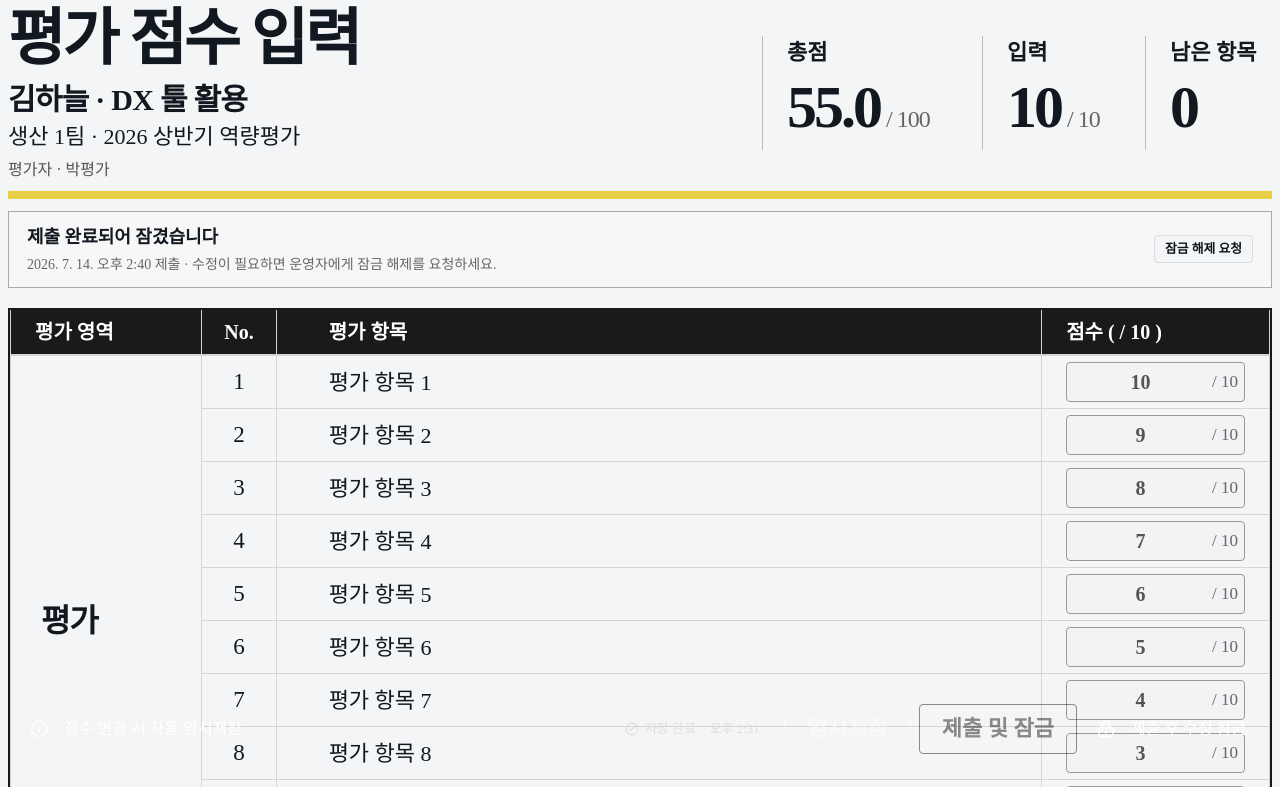
EvaluationScoreForm › 평가자가 제출 후 수정 사유를 적어 잠금 해제를 요청한다
Step 1. Click the button "잠금 해제 요청" → (1204, 249), box [1154,235,1253,263]
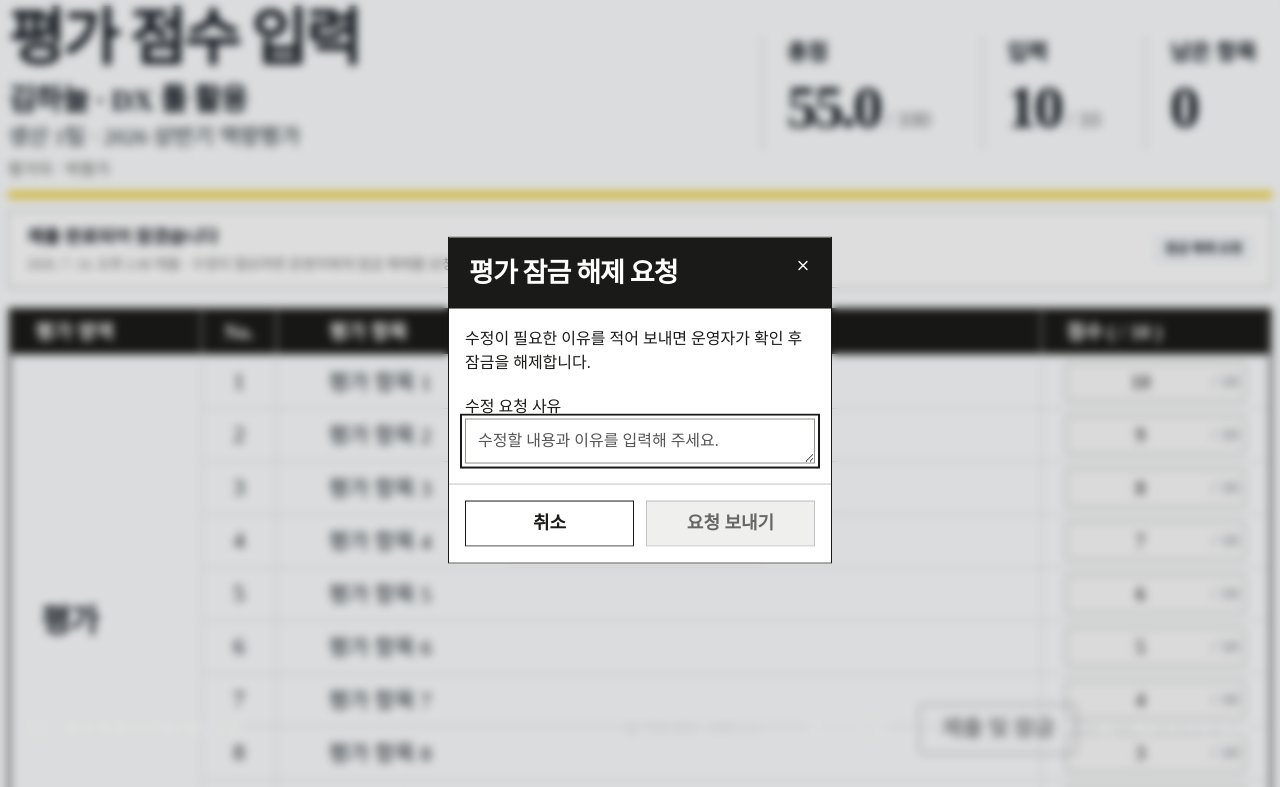
Step 2. Type "평가 항목 3 점수 오입력" into the text box labelled "수정 요청 사유" → (640, 441), box [465,419,815,463]
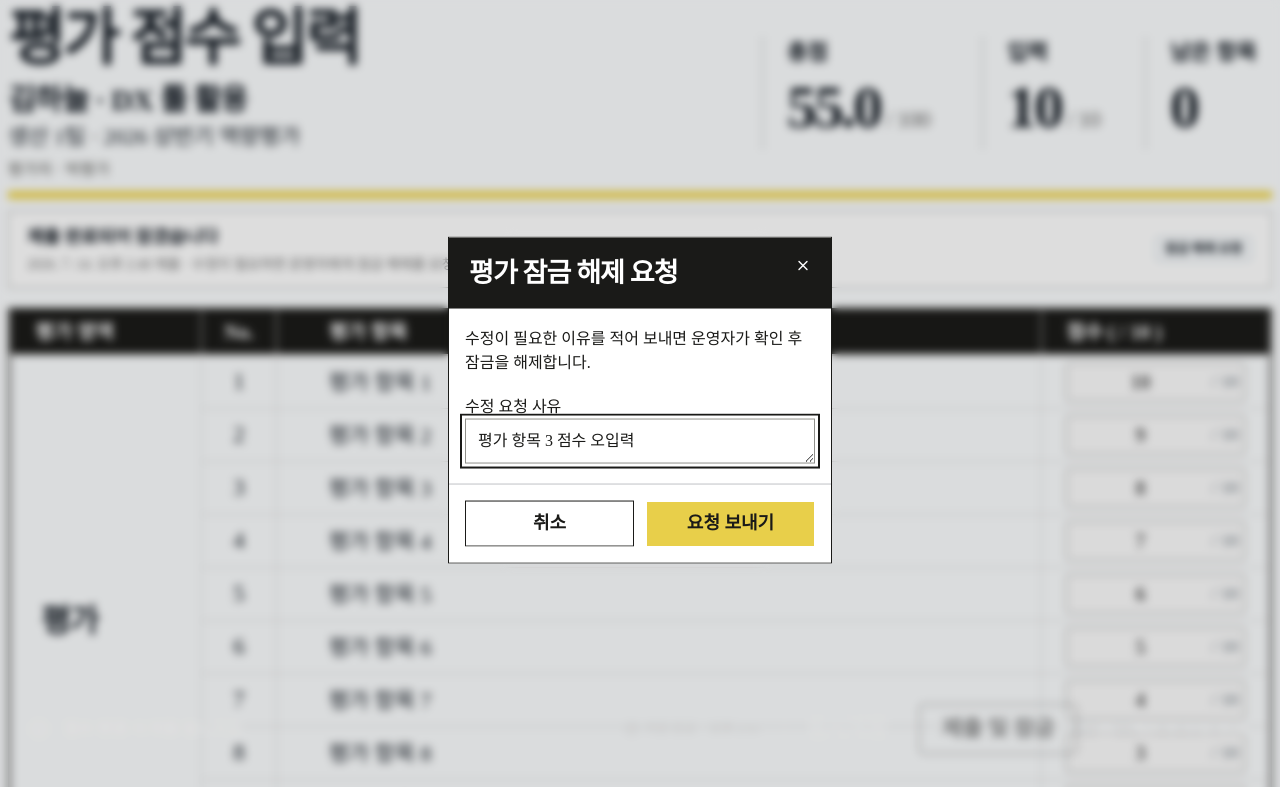
Step 3. Click the button "요청 보내기" → (730, 524), box [646,500,815,546]
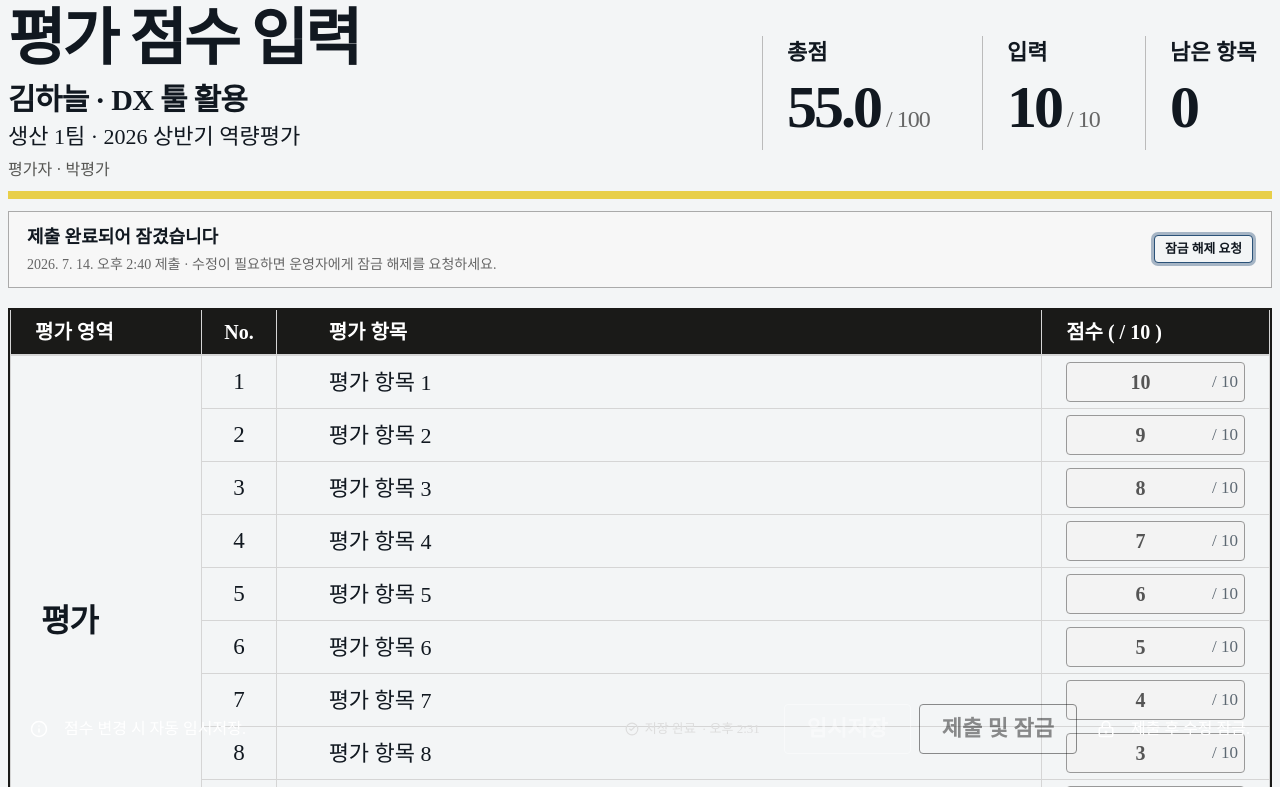
Now the heading "평가 잠금 해제 요청" is gone
